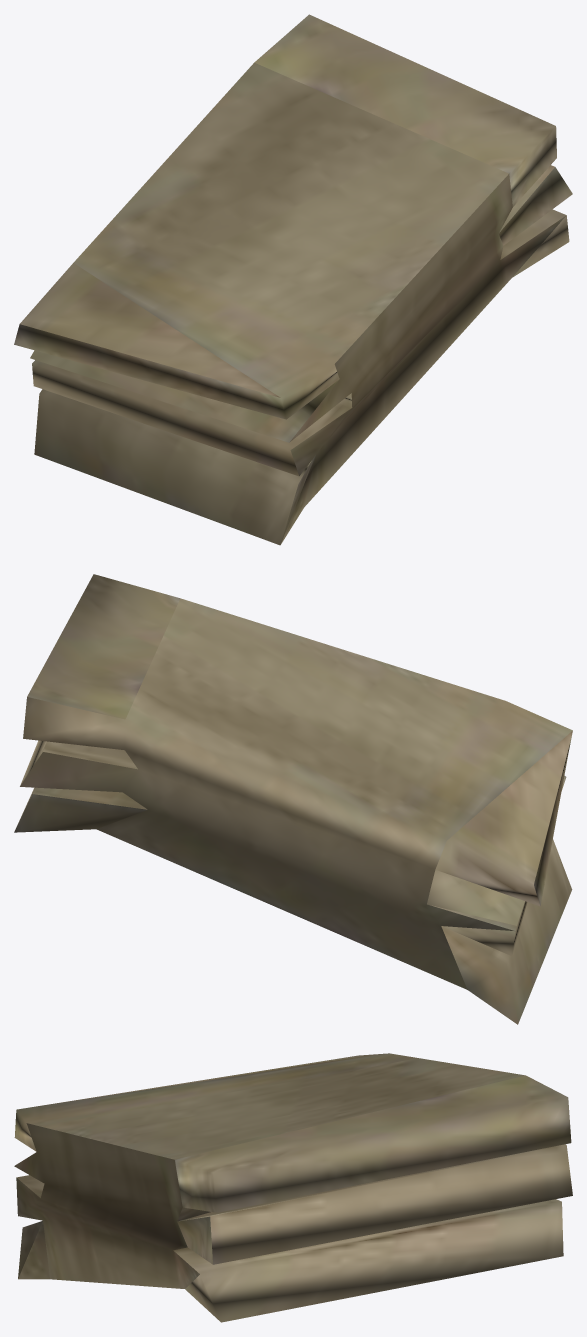
Rendered from ration-bar.glb.
3 renders of one model, top to bottom at view 1: azimuth 30°, elevation 25°; view 2: azimuth 150°, elevation 25°; view 3: azimuth 270°, elevation 25°, orthographic. The views are drawn at different scales.
Visible parts, largest first — view 1: ration-bar; view 2: ration-bar; view 3: ration-bar.
Part boxes in pixels (left/top/right/bottom): ration-bar: left=14, top=14, right=572, bottom=545; ration-bar: left=14, top=574, right=572, bottom=1024; ration-bar: left=14, top=1053, right=572, bottom=1322.
Size of the model in its own units: 0.2046 by 0.1143 by 0.1741.
Materials: 1 (1 with a texture image).
